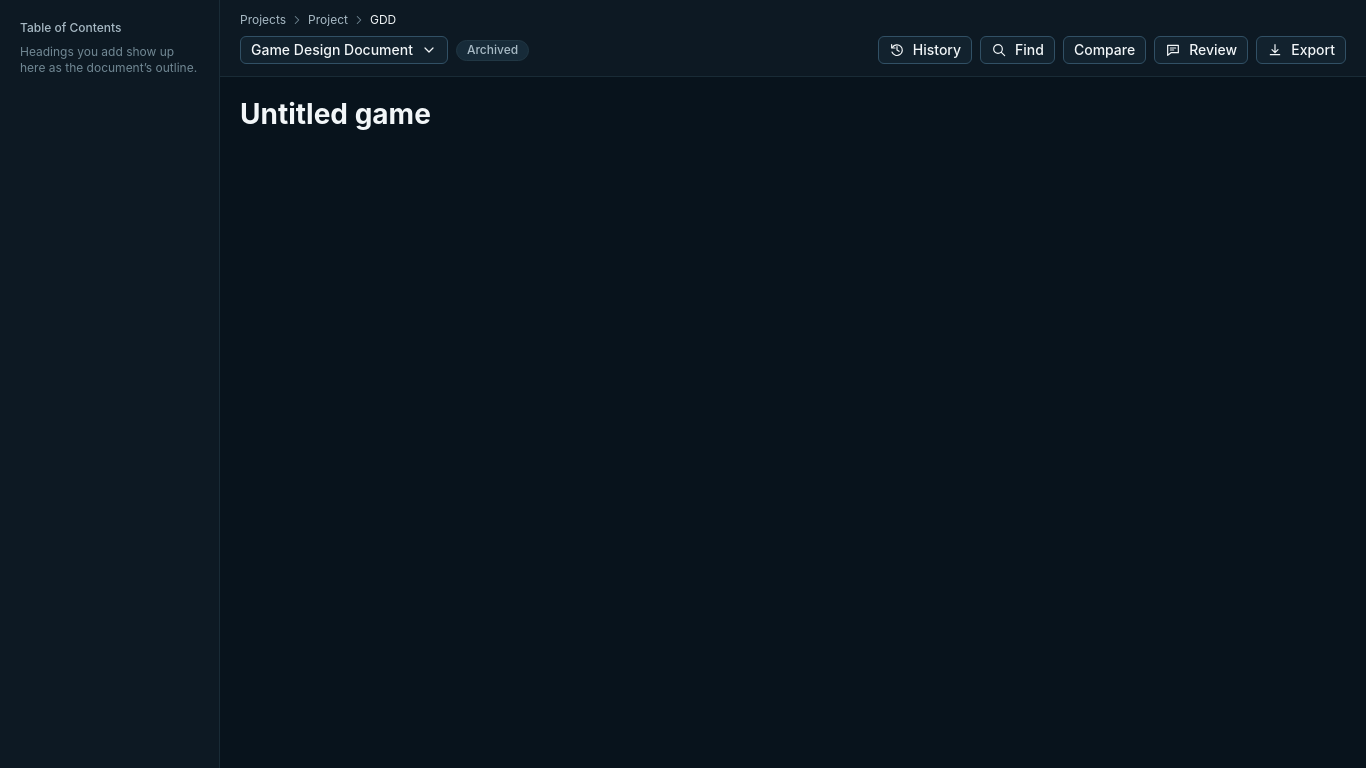
Test: GddWorkspace — archived documents › still lets an archived document be reviewed and commented on
Click the button "Review" at (1201, 50), box x1=1154 y1=36 x2=1248 y2=64
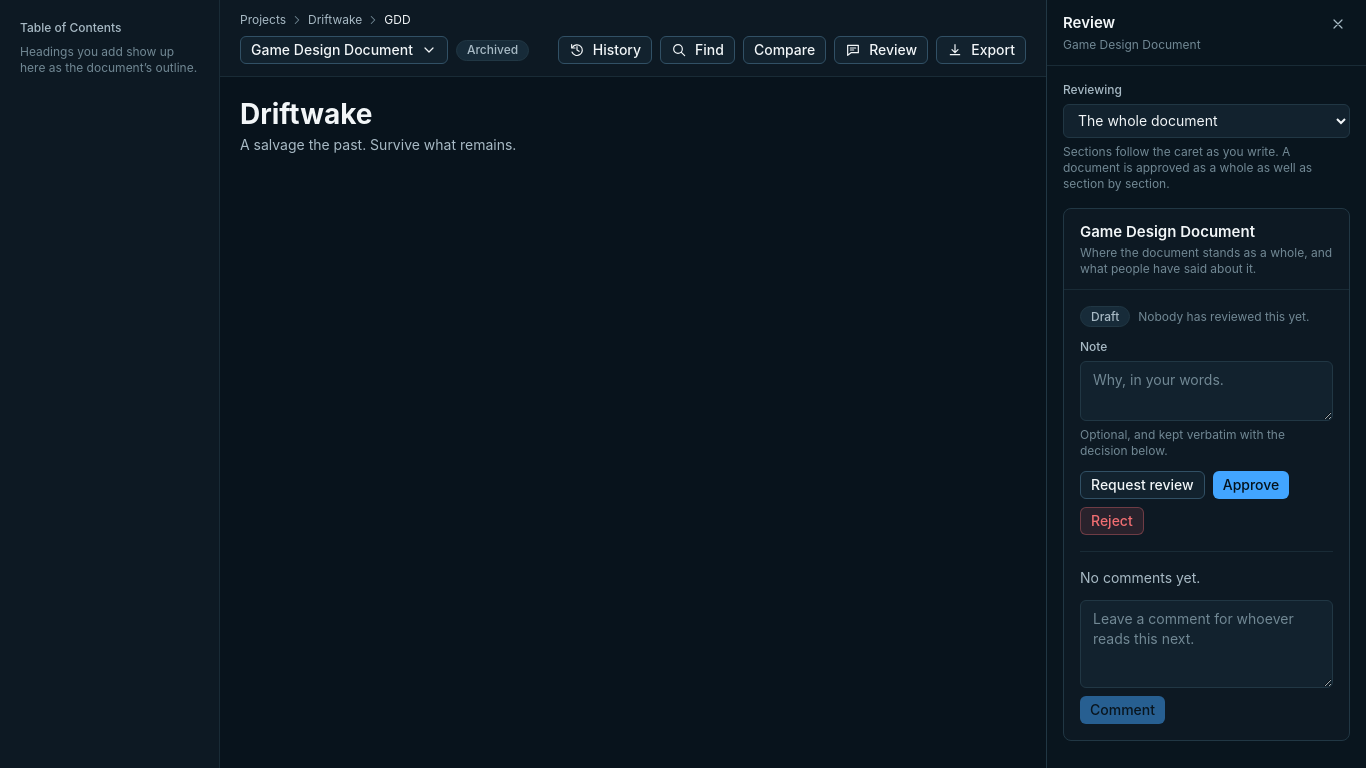
Result: the dropdown labelled "Reviewing" is shown at x1=1063 y1=104 x2=1350 y2=138
Result: the button "Approve" is shown at x1=1213 y1=471 x2=1289 y2=499
